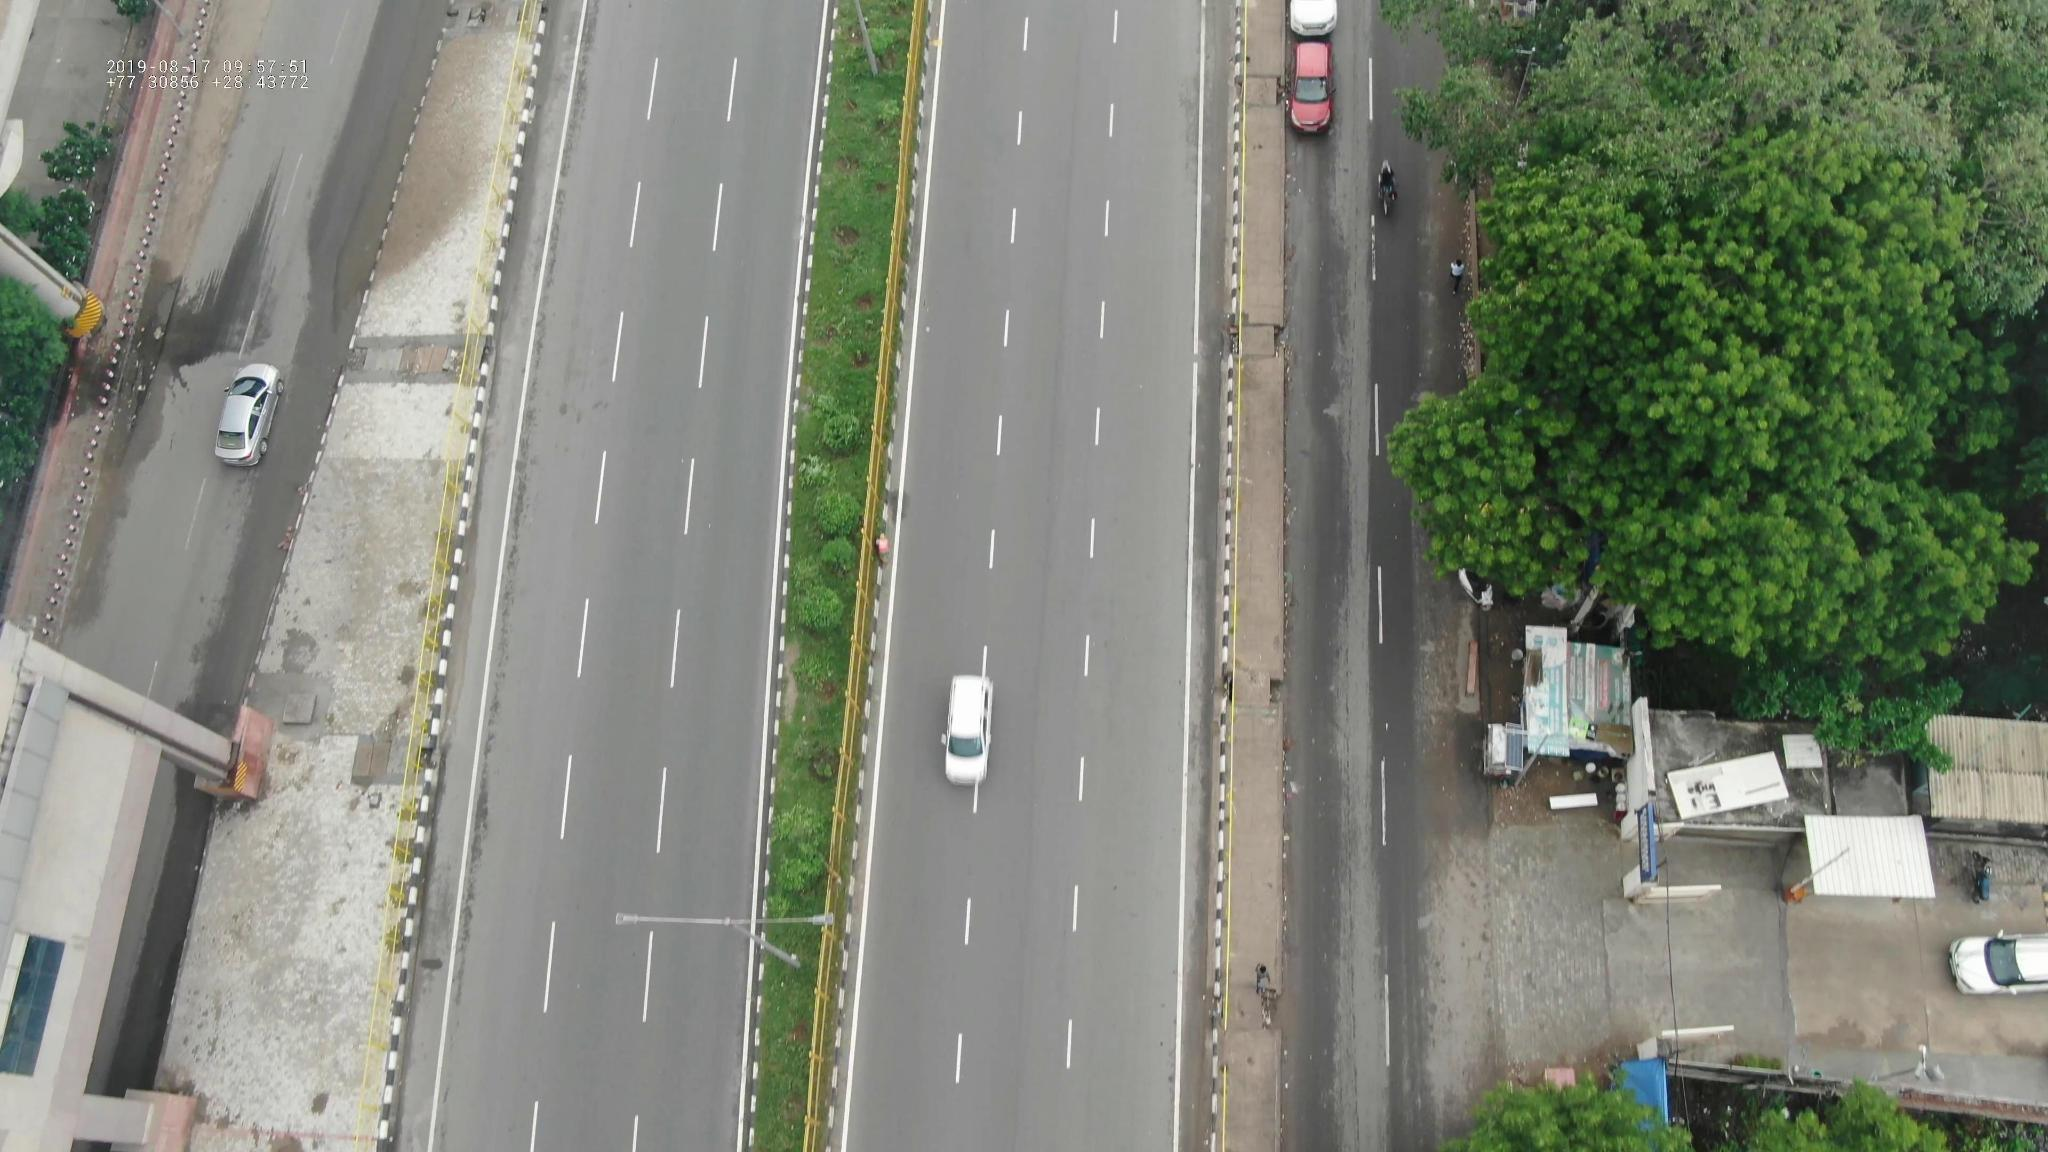Waterlogging: (333, 93, 416, 307)
